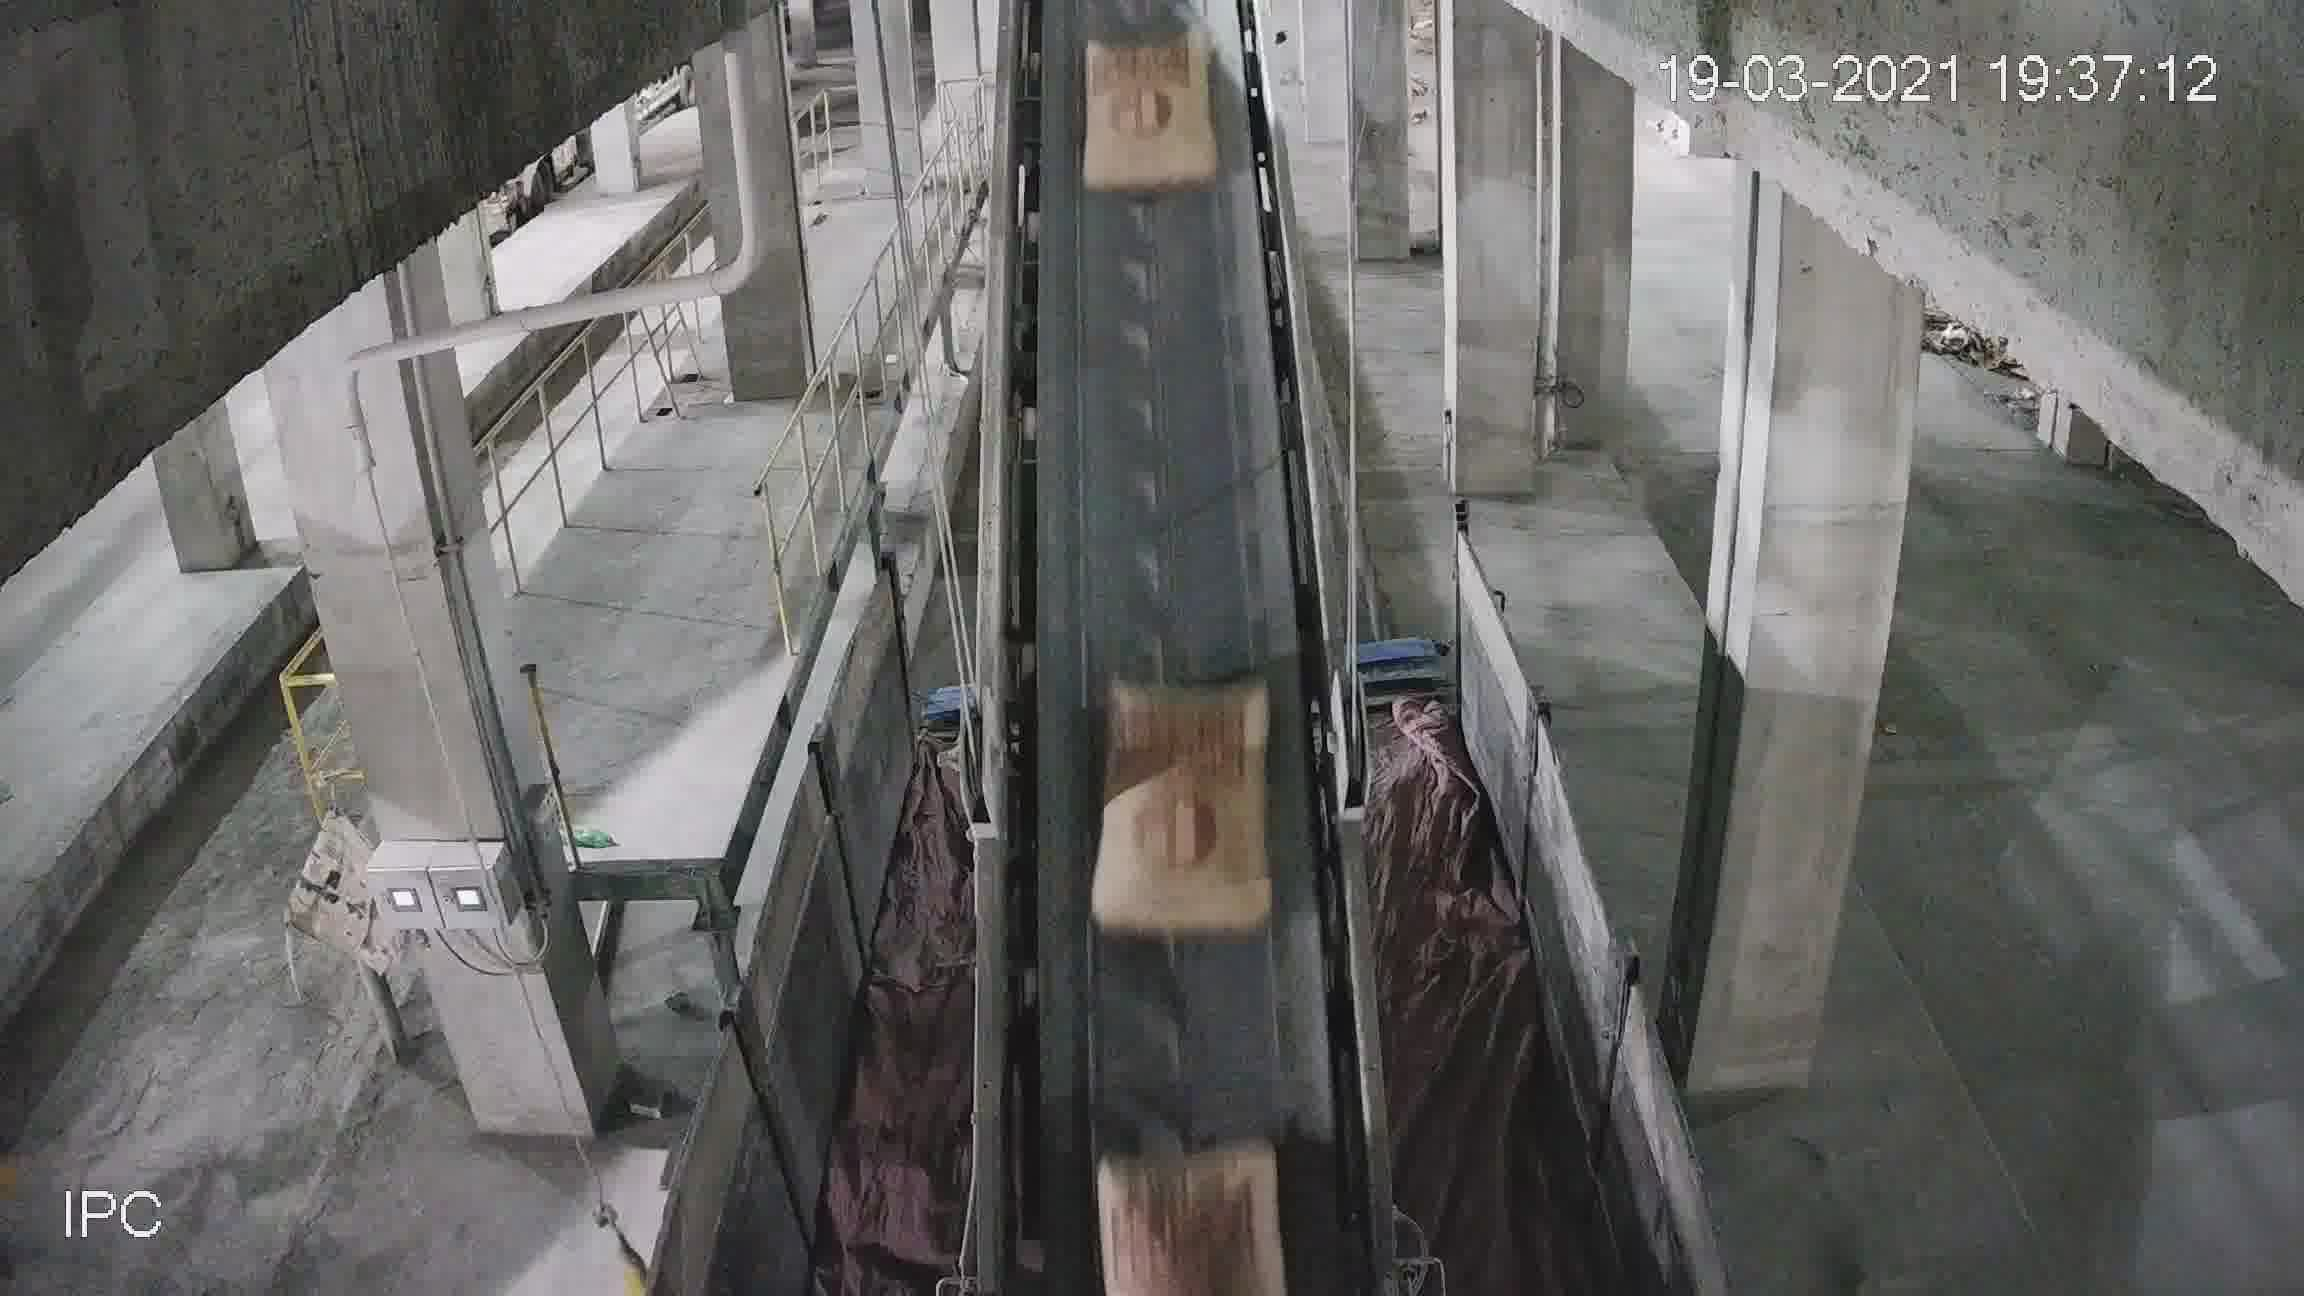bag: (1101, 687, 1275, 945), (1082, 36, 1218, 196), (1093, 1139, 1282, 1201)
belt: (994, 187, 1342, 1188)
